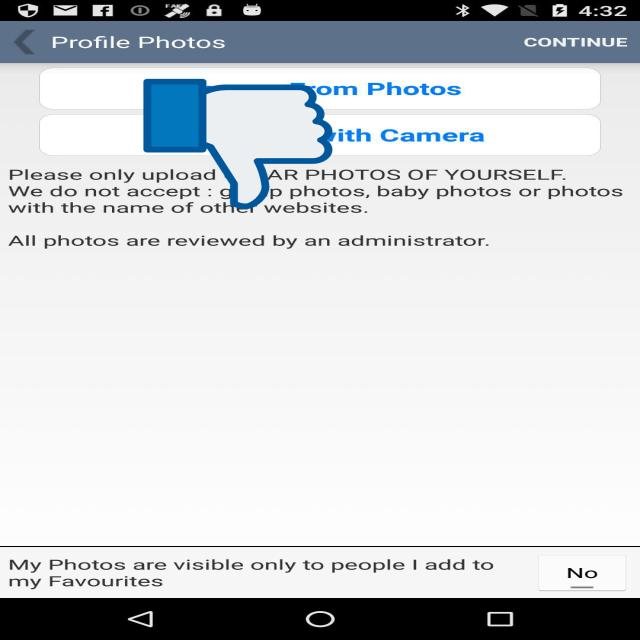obstruction: (144, 76, 332, 212)
